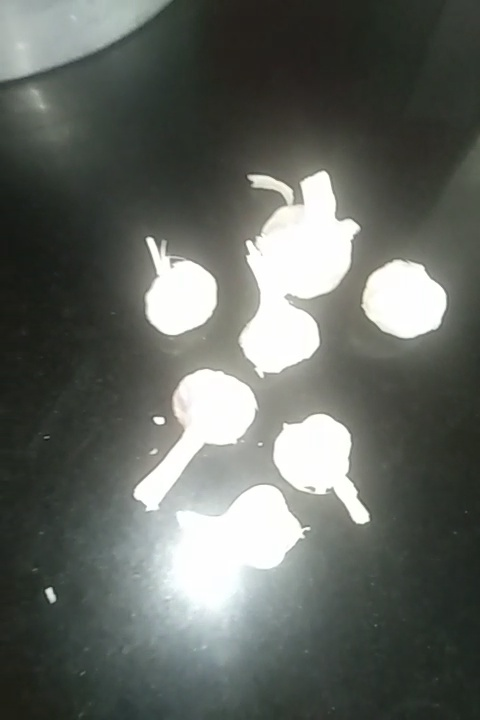garlic: (134, 368, 260, 492), (242, 177, 362, 294), (273, 410, 379, 531), (233, 276, 320, 376), (140, 237, 218, 339), (370, 258, 448, 339)
